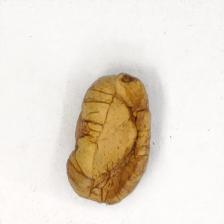NG: (80, 87, 142, 193)
